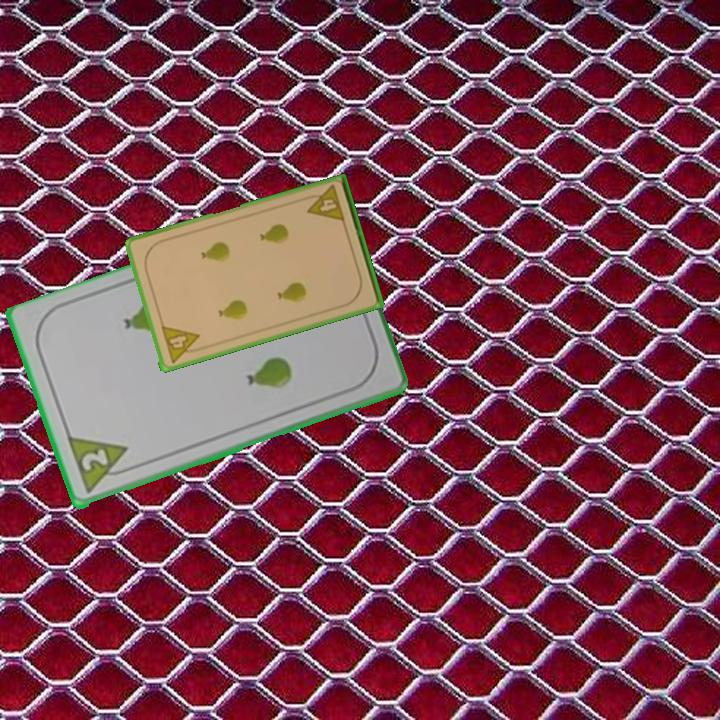2p: (63, 433, 137, 497)
4p: (158, 322, 205, 366), (301, 181, 348, 225)
